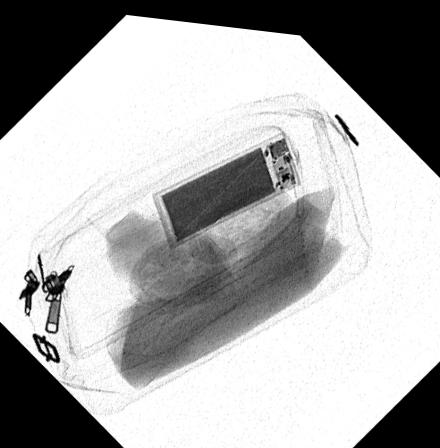Powerbank: (151, 121, 304, 245)
